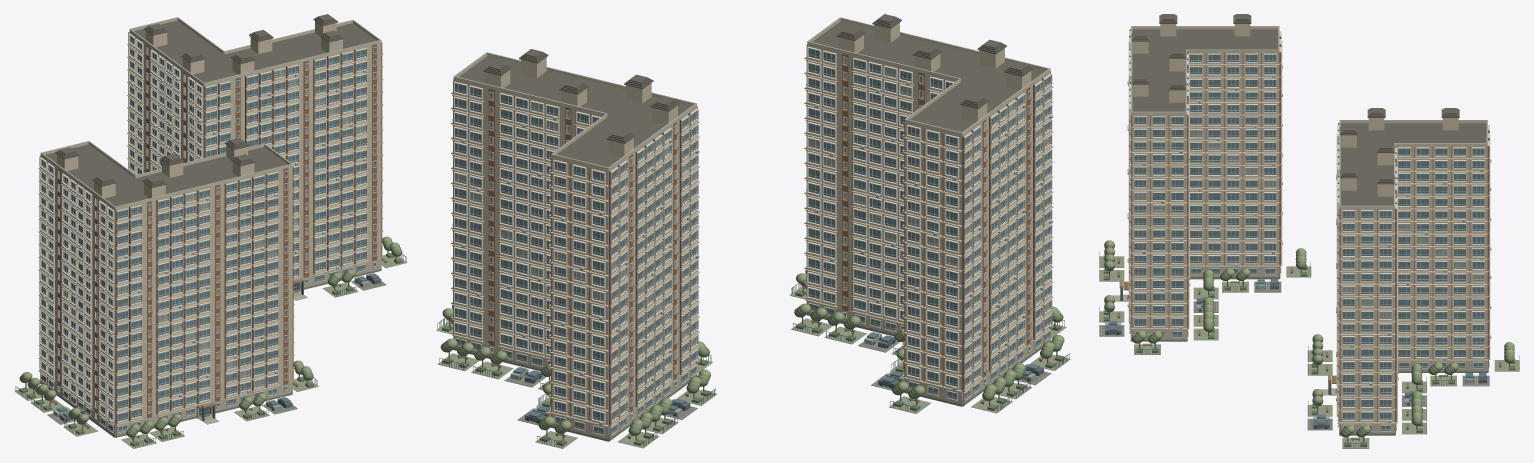
The model's file is middle-2.glb.
The picture shows the model from 3 angles, left to right: view 1: azimuth 30°, elevation 25°; view 2: azimuth 150°, elevation 25°; view 3: azimuth 270°, elevation 25°; orthographic projection. The views are drawn at different scales.
Visible parts, largest first — view 1: korean-facade-parts-e0dfd3, korean-facade-surface-728d91, korean-facade-parts-d5c9af, korean-facade-surface-d5c9af, korean-facade-parts-9b7860, middle-2, korean-facade-surface-9eaaa4, korean-facade-parts-716e64, korean-facade-parts-9ba48a, korean-facade-parts-c5c0ae, korean-facade-parts-b8bcb2, korean-facade-parts-94a17c (+8 smaller); view 2: korean-facade-parts-e0dfd3, korean-facade-surface-728d91, korean-facade-parts-d5c9af, korean-facade-surface-d5c9af, korean-facade-parts-9b7860, middle-2, korean-facade-parts-9ba48a, korean-facade-surface-9eaaa4, korean-facade-parts-716e64, korean-facade-parts-94a17c, korean-facade-parts-c5c0ae, korean-facade-parts-b8bcb2 (+11 smaller); view 3: korean-facade-parts-e0dfd3, korean-facade-surface-728d91, korean-facade-parts-d5c9af, korean-facade-surface-d5c9af, middle-2, korean-facade-parts-9b7860, korean-facade-parts-9ba48a, korean-facade-parts-716e64, korean-facade-parts-94a17c, korean-facade-parts-c5c0ae, korean-facade-surface-9eaaa4, korean-facade-parts-b8bcb2 (+9 smaller).
Part boxes in pixels (x1,y1,x2,y2): korean-facade-parts-e0dfd3: (39, 33, 376, 422); korean-facade-surface-728d91: (41, 36, 375, 429); korean-facade-parts-d5c9af: (38, 18, 383, 425); korean-facade-surface-d5c9af: (41, 32, 381, 425); korean-facade-parts-9b7860: (39, 32, 382, 437); middle-2: (45, 20, 376, 431); korean-facade-surface-9eaaa4: (41, 63, 375, 407); korean-facade-parts-716e64: (55, 14, 344, 187); korean-facade-parts-9ba48a: (14, 255, 407, 448); korean-facade-parts-c5c0ae: (41, 259, 381, 435); korean-facade-parts-b8bcb2: (40, 17, 381, 207); korean-facade-parts-94a17c: (22, 236, 399, 431); korean-facade-parts-e0dfd3: (453, 44, 1052, 423); korean-facade-surface-728d91: (455, 48, 1049, 431); korean-facade-parts-d5c9af: (451, 18, 1053, 427); korean-facade-surface-d5c9af: (454, 45, 1050, 427); korean-facade-parts-9b7860: (453, 45, 1050, 441); middle-2: (459, 21, 1044, 434); korean-facade-parts-9ba48a: (436, 286, 1070, 448); korean-facade-surface-9eaaa4: (455, 67, 1049, 347); korean-facade-parts-716e64: (483, 14, 1033, 143); korean-facade-parts-94a17c: (442, 270, 1064, 430); korean-facade-parts-c5c0ae: (453, 301, 1050, 439); korean-facade-parts-b8bcb2: (453, 17, 1050, 168); korean-facade-parts-e0dfd3: (1129, 30, 1489, 420); korean-facade-surface-728d91: (1134, 55, 1484, 428); korean-facade-parts-d5c9af: (1128, 24, 1490, 423); korean-facade-surface-d5c9af: (1131, 52, 1487, 423); middle-2: (1132, 29, 1486, 205); korean-facade-parts-9b7860: (1123, 29, 1489, 435); korean-facade-parts-9ba48a: (1099, 256, 1519, 448); korean-facade-parts-716e64: (1131, 14, 1459, 184); korean-facade-parts-94a17c: (1104, 240, 1514, 433); korean-facade-parts-c5c0ae: (1131, 266, 1487, 433); korean-facade-surface-9eaaa4: (1134, 130, 1484, 318); korean-facade-parts-b8bcb2: (1131, 26, 1487, 206).
Size of the model in its own units: 106 by 57.93 by 90.8.
